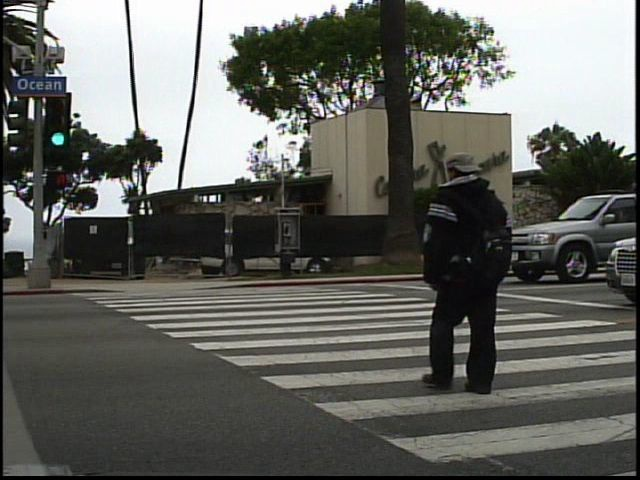person: (420, 140, 524, 397)
